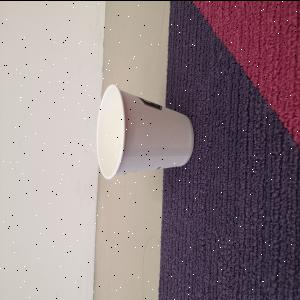Cup: (97, 83, 197, 180)
